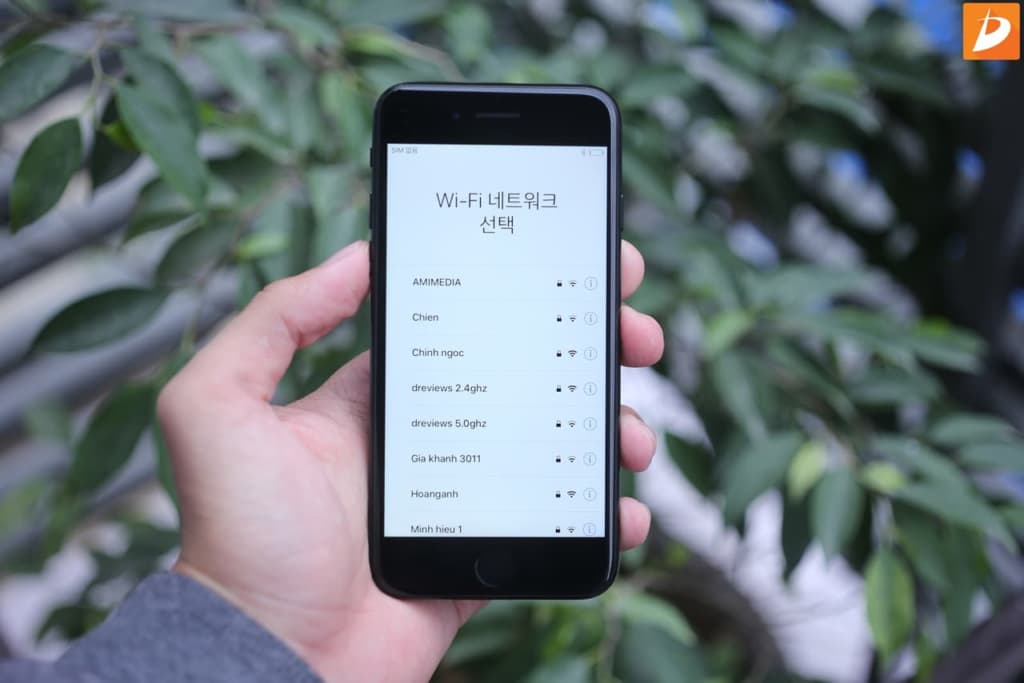iphone: (361, 73, 633, 613)
iphone7: (356, 73, 628, 613)
